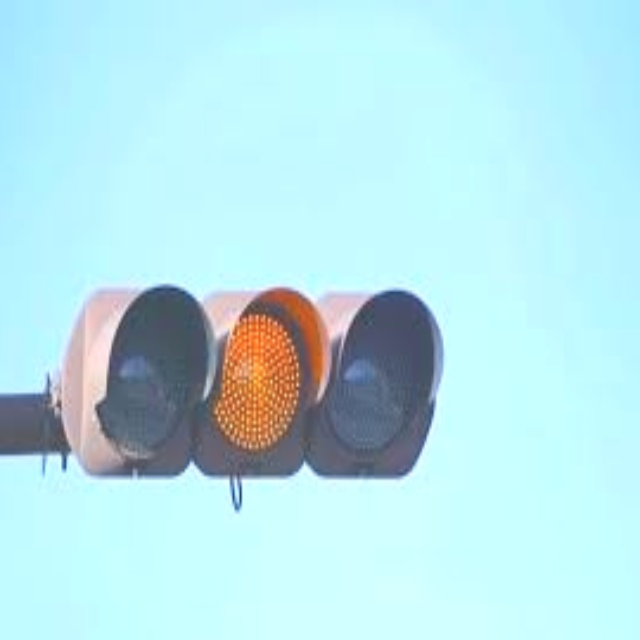yellow_light: (205, 314, 308, 456)
